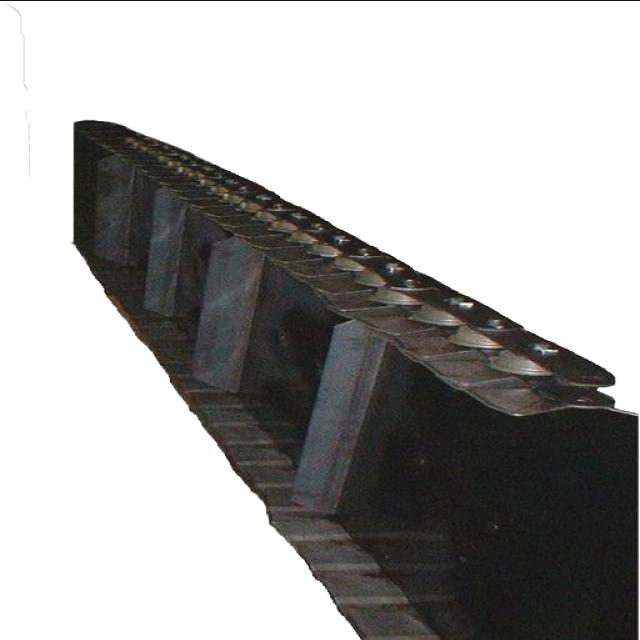conveyor: (70, 120, 640, 640)
